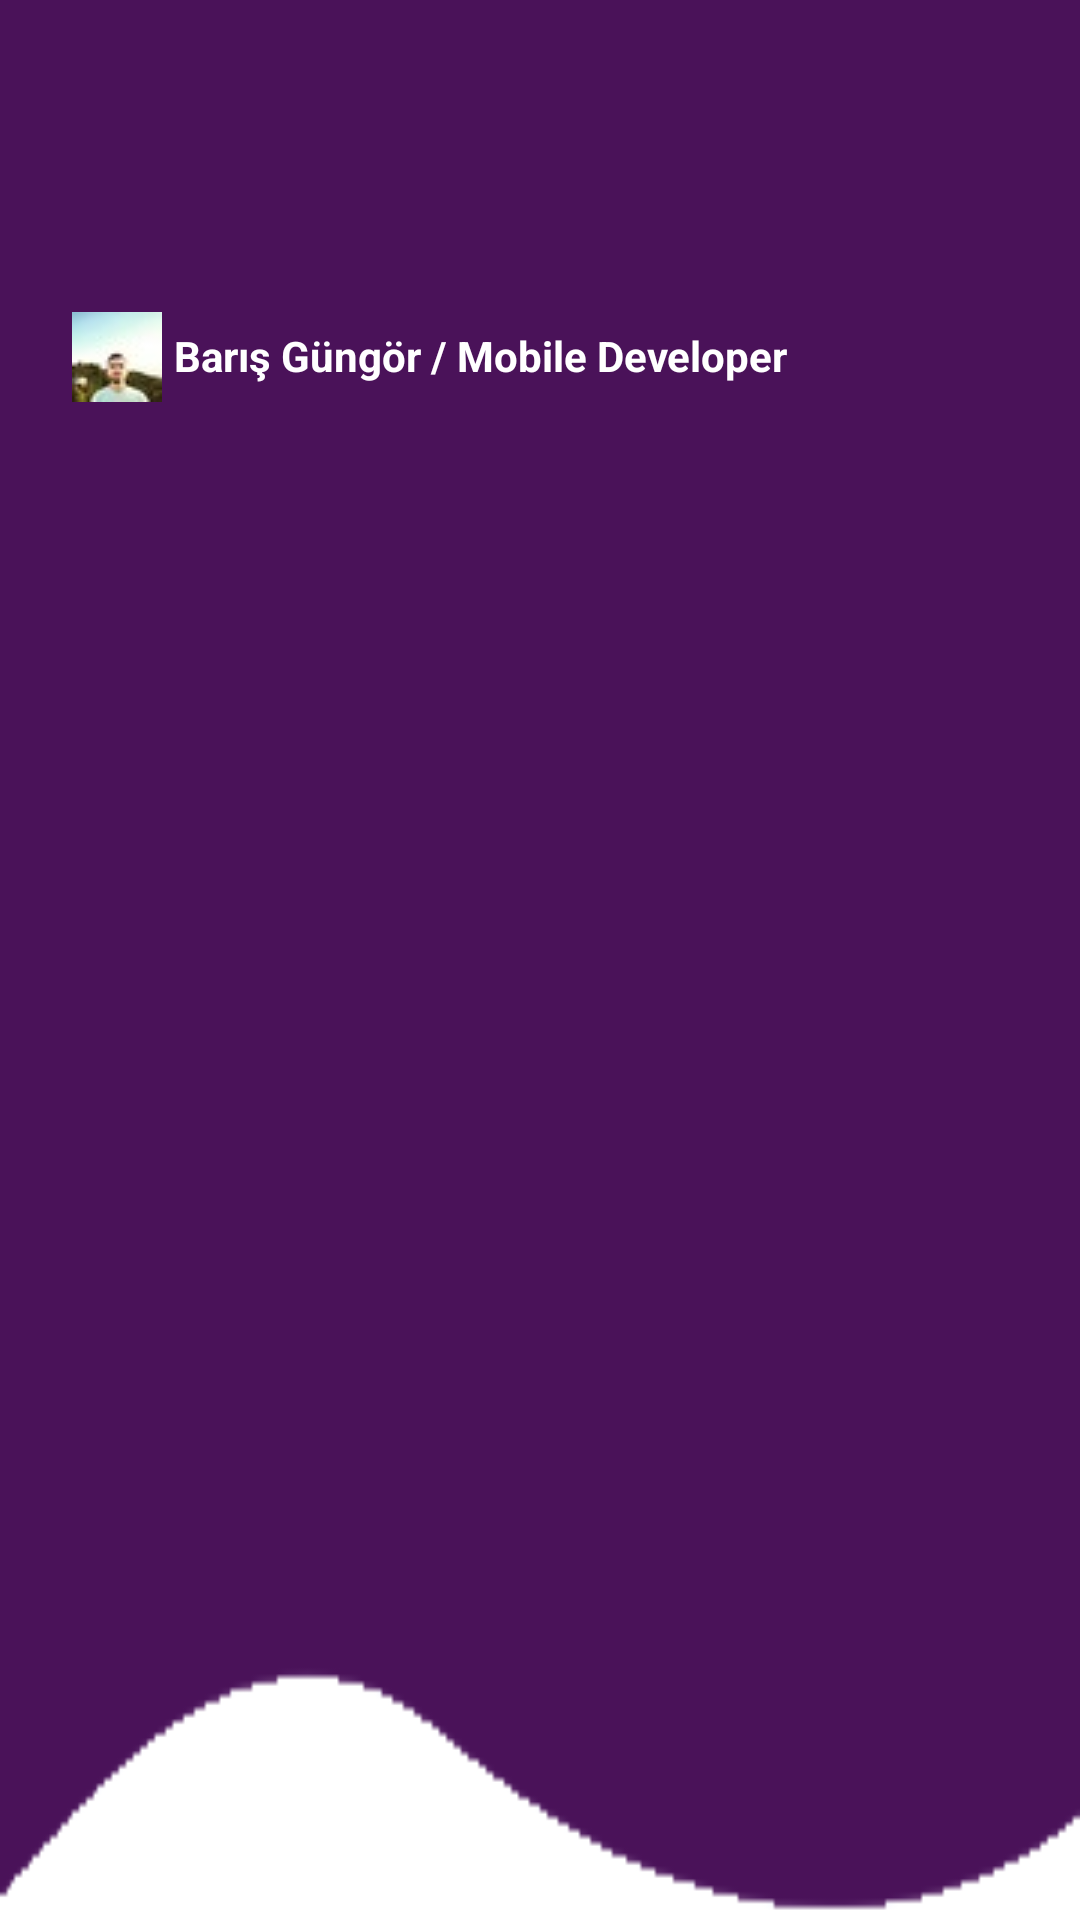

Icons on this 1080px x 1920px Android screen, each with its box as (x1,y1,x2,y2):
foto: (72,312,162,402)
